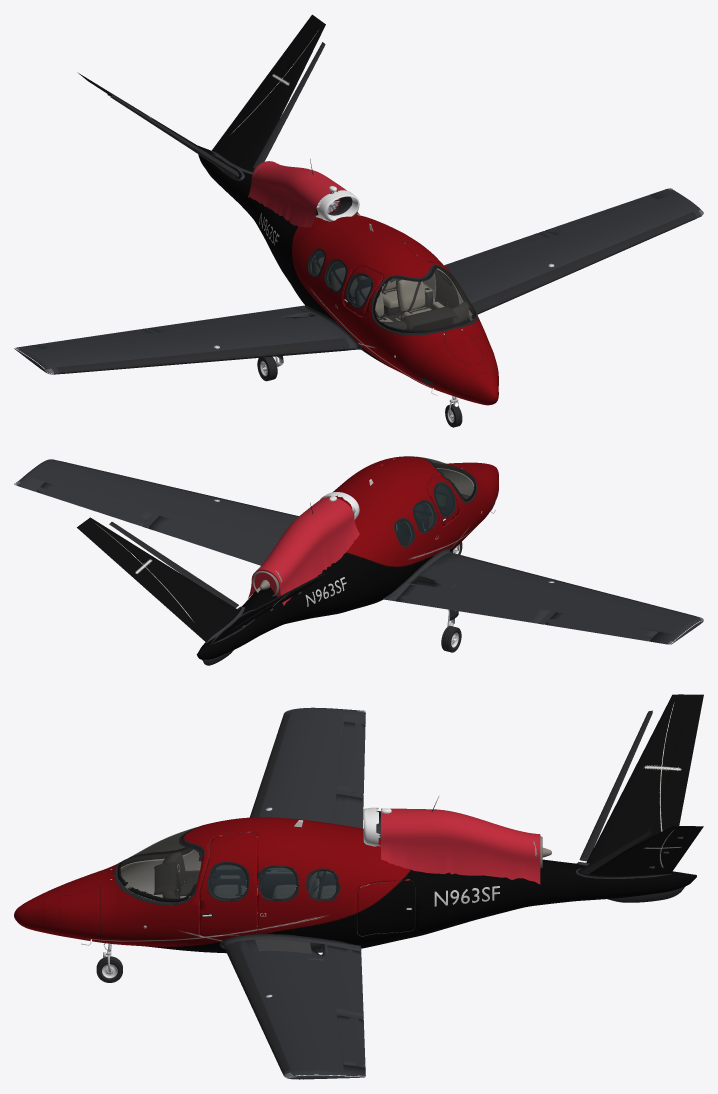
File: SF50_exterior_fix1.glb
3 views of the same model, one above another, from view 1: azimuth 30°, elevation 25°; view 2: azimuth 150°, elevation 25°; view 3: azimuth 270°, elevation 25° (orthographic). The views are drawn at different scales.
Parts seen in each view (by area): view 1: Exterior, Glazing, Interior, Ctrl_Ruddervator_L, Door_Exit, Ctrl_Flap_R, Door_Main, Ctrl_Flap_L, Ctrl_Aileron_L, Ctrl_Aileron_R; view 2: Exterior, Ctrl_Flap_R, Ctrl_Flap_L, Ctrl_Ruddervator_L, Glazing, Ctrl_Aileron_L, Ctrl_Aileron_R, Door_Exit, Interior, Wheel_Main_R, Ctrl_Ruddervator_R; view 3: Exterior, Glazing, Interior, Door_Main, Door_Baggage, Ctrl_Ruddervator_R, Ctrl_Flap_L, Ctrl_Aileron_R, Ctrl_Aileron_L, Ctrl_Flap_R, Ctrl_Ruddervator_L.
Boxes of the visible parts, x1,y1,x2,y2 form: Exterior: (14, 14, 703, 405); Glazing: (309, 250, 475, 332); Interior: (310, 251, 473, 330); Ctrl_Ruddervator_L: (217, 26, 309, 150); Door_Exit: (342, 265, 383, 316); Ctrl_Flap_R: (148, 307, 309, 332); Door_Main: (402, 240, 459, 308); Ctrl_Flap_L: (444, 233, 549, 272); Ctrl_Aileron_L: (545, 195, 657, 235); Ctrl_Aileron_R: (36, 329, 152, 348); Exterior: (14, 456, 703, 665); Ctrl_Flap_R: (395, 584, 549, 623); Ctrl_Flap_L: (148, 516, 272, 565); Ctrl_Ruddervator_L: (87, 532, 211, 636); Glazing: (396, 456, 475, 545); Ctrl_Aileron_L: (36, 482, 152, 525); Ctrl_Aileron_R: (545, 612, 658, 641); Door_Exit: (427, 473, 459, 525); Interior: (396, 465, 473, 544); Wheel_Main_R: (441, 626, 461, 652); Ctrl_Ruddervator_R: (217, 585, 308, 640); Exterior: (14, 694, 703, 1079); Glazing: (117, 827, 336, 902); Interior: (120, 836, 387, 932); Door_Main: (200, 832, 257, 936); Door_Baggage: (357, 880, 414, 935); Ctrl_Ruddervator_R: (652, 709, 700, 836); Ctrl_Flap_L: (322, 945, 363, 1016); Ctrl_Aileron_R: (337, 722, 365, 794); Ctrl_Aileron_L: (337, 1015, 365, 1067); Ctrl_Flap_R: (333, 794, 363, 828); Ctrl_Ruddervator_L: (646, 830, 700, 873).
Size of the model in its own units: 11.8 by 3.31 by 9.36.
Materials: 74 (11 with a texture image).
